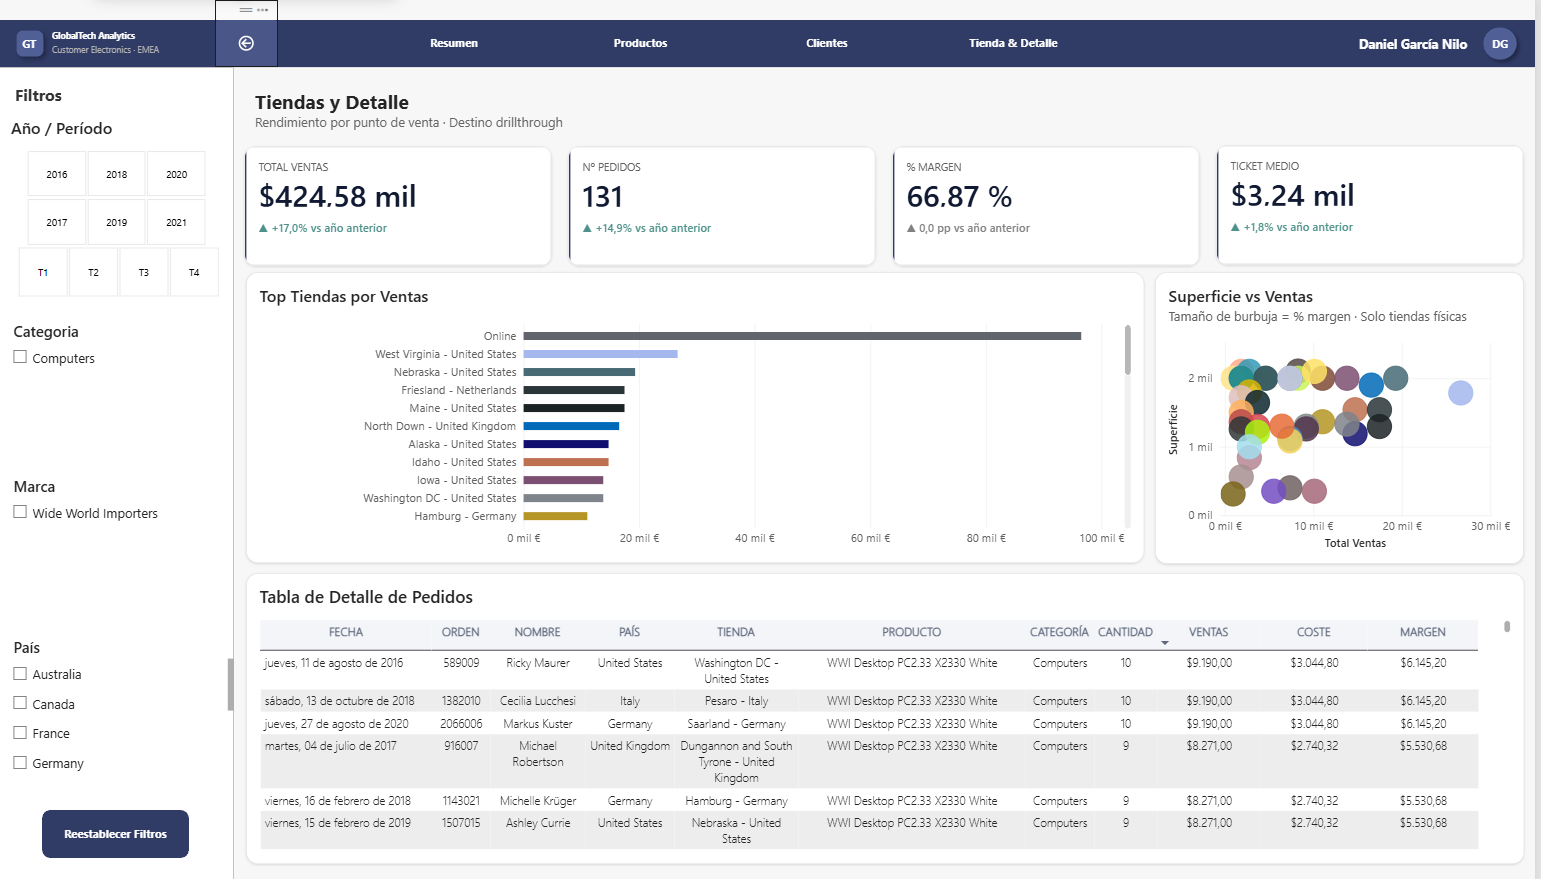

The dashboard page shown, as its layout file describes it:
{"tool":"powerbi","page":{"name":"Tienda & Detalle","canvas":[1920,1080],"ordinal":3},"visuals":[{"type":"cardVisual","fields":{"Data":["Medidas.Total_Ventas"]},"box":[306.2,157.5,385,150],"z":0},{"type":"shape","box":[0,0,1920,58.9],"z":1000},{"type":"shape","box":[10.9,2.5,54.8,53.8],"z":2000},{"type":"textbox","box":[23.9,20.7,28.2,18.2],"z":3000},{"type":"textbox","box":[65.8,10,144.1,55.9],"z":4000},{"type":"shape","box":[1846.7,0,60,58.7],"z":5000},{"type":"textbox","box":[1700,18.8,150,22.5],"z":6000},{"type":"shape","title":"Filtros","box":[0,59,293.7,1021],"z":7000},{"type":"actionButton","box":[53.8,987.5,183.8,60],"z":8000},{"type":"slicer","title":"Año / Período","fields":{"Values":["DIM_Calendario.Año"]},"box":[0,120,277.2,162.8],"z":9000},{"type":"slicer","fields":{"Values":["DIM_Calendario.Trimestre"]},"box":[4.3,282.6,289.6,64.8],"z":10000},{"type":"slicer","fields":{"Values":["DIM_Productos.Categoria"]},"box":[0,376.2,293.8,175],"z":11000},{"type":"slicer","fields":{"Values":["DIM_Productos.Marca"]},"box":[0,570,293.8,175],"z":12000},{"type":"slicer","title":"Pais","fields":{"Values":["DIM_Tiendas.PaisTienda"]},"box":[0,771.4,293.8,175],"z":13000},{"type":"cardVisual","fields":{"Data":["Medidas.Num_Pedidos"]},"box":[711.2,157.5,385,150],"z":14000},{"type":"cardVisual","fields":{"Data":["Medidas.Pct_Margen"]},"box":[1116.2,157.8,385,150],"z":15000},{"type":"cardVisual","fields":{"Data":["Medidas.Ticket_Medio"]},"box":[1521.1,156.7,385,150],"z":16000},{"type":"barChart","title":"Top Tiendas por Ventas","fields":{"Category":["DIM_Tiendas.NombreTienda"],"Series":["DIM_Tiendas.NombreTienda"],"Y":["Medidas.Total_Ventas"]},"box":[308.9,315.6,1123.3,364.4],"z":18000},{"type":"tableEx","title":"Tabla de Detalle de Pedidos","fields":{"Values":["FACT_Ventas.FechaPedido","Sum(FACT_Ventas.IdPedido)","DIM_Clientes.Nombre","DIM_Clientes.Pais","DIM_Tiendas.NombreTienda","DIM_Productos.Producto","DIM_Productos.Categoria","Sum(FACT_Ventas.Cantidad)","Medidas.Total_Ventas","Medidas.Total_Coste","Medidas.Margen_Total"]},"box":[308.8,691.2,1597.5,363.8],"z":19000},{"type":"scatterChart","title":"Superficie vs Ventas","fields":{"Series":["DIM_Tiendas.NombreTienda"],"Size":["Medidas.Pct_Margen"],"X":["Medidas.Total_Ventas"],"Y":["DIM_Tiendas.MetrosCuadrados"]},"box":[1445,315,461.2,365],"z":20000},{"type":"textbox","box":[320,85,522,143],"z":23000},{"type":"pageNavigator","box":[472.3,0,895.4,59.2],"z":24000}]}

Visuals, with their boxes on the page's 1920x1080 design canvas (x1, y1, x2, y2). These are canvas units, not pixel positions in the 1541x879 screenshot, which may show the page scaled, cropped or inside an application window:
cardVisual - Medidas.Total_Ventas: 306:158:691:308
shape: 0:0:1920:59
shape: 11:2:66:56
textbox: 24:21:52:39
textbox: 66:10:210:66
shape: 1847:0:1907:59
textbox: 1700:19:1850:41
"Filtros" shape: 0:59:294:1080
actionButton: 54:988:238:1048
"Año / Período" slicer: 0:120:277:283
slicer - DIM_Calendario.Trimestre: 4:283:294:347
slicer - DIM_Productos.Categoria: 0:376:294:551
slicer - DIM_Productos.Marca: 0:570:294:745
"Pais" slicer: 0:771:294:946
cardVisual - Medidas.Num_Pedidos: 711:158:1096:308
cardVisual - Medidas.Pct_Margen: 1116:158:1501:308
cardVisual - Medidas.Ticket_Medio: 1521:157:1906:307
"Top Tiendas por Ventas" barChart: 309:316:1432:680
"Tabla de Detalle de Pedidos" tableEx: 309:691:1906:1055
"Superficie vs Ventas" scatterChart: 1445:315:1906:680
textbox: 320:85:842:228
pageNavigator: 472:0:1368:59
